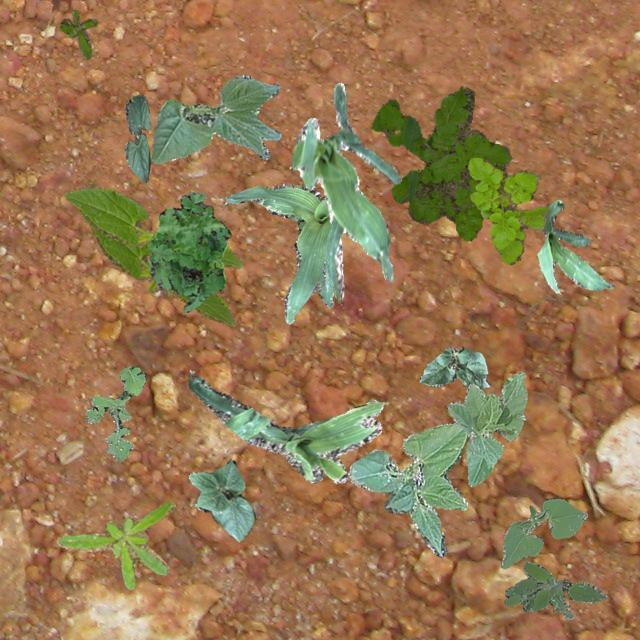crop: (288, 81, 401, 302), (188, 374, 384, 482), (80, 212, 234, 326), (347, 422, 468, 556), (224, 182, 334, 322), (64, 182, 242, 266), (150, 74, 280, 162), (446, 370, 526, 486), (536, 198, 612, 292), (499, 497, 586, 568), (188, 458, 255, 540), (418, 346, 489, 388), (124, 94, 150, 182)
weed: (370, 86, 510, 240), (56, 501, 174, 588), (148, 190, 230, 312), (466, 156, 548, 264), (84, 364, 146, 460), (504, 560, 606, 618), (58, 8, 96, 58)
